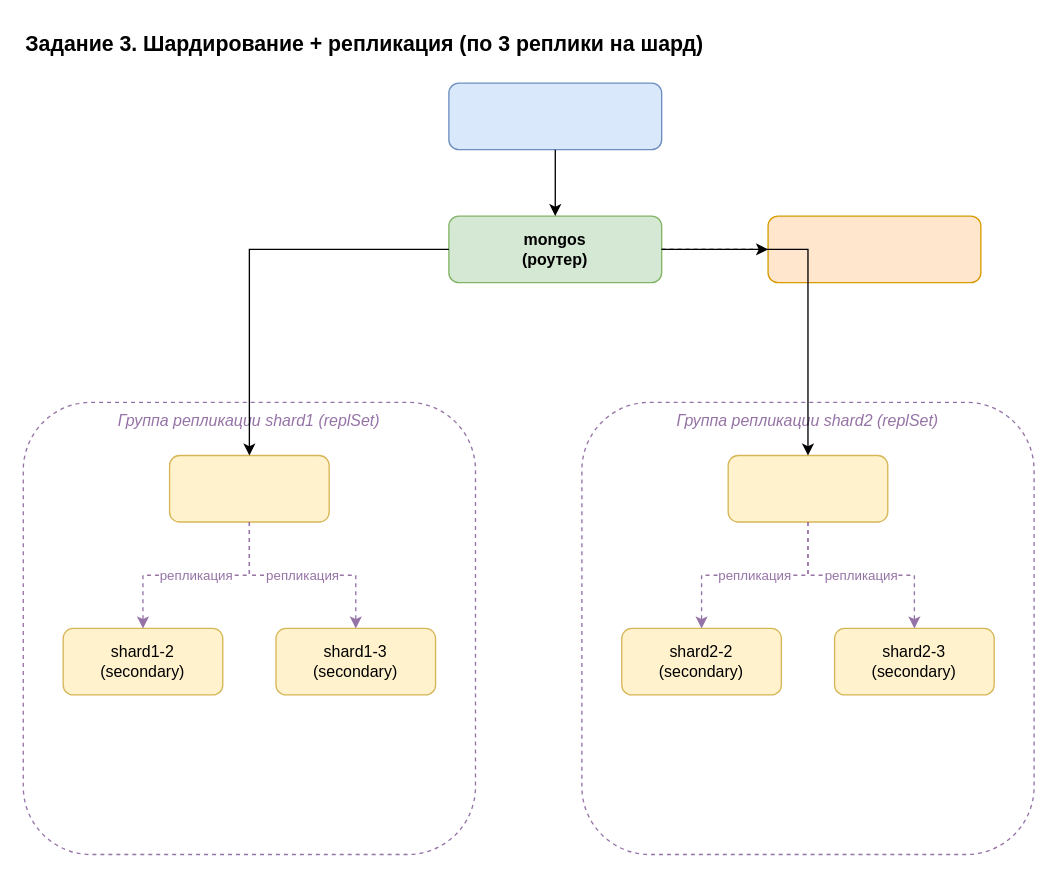
This 1057x878 diagram has some shape labels left out. The shapes that lost their labels are listed below. From the top down, each one's centre as x and y in pixels, then its label:
At [555,116]: "pymongo-api (приложение)".
At [874,249]: "configSrv (config server)".
At [248,488]: "shard1-1 (PRIMARY)".
At [807,488]: "shard2-1 (PRIMARY)".
